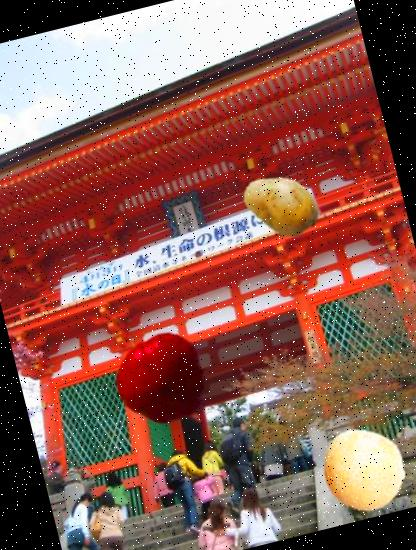Cantaloupe: (314, 420, 415, 521)
Potato: (234, 156, 330, 252)
Tomato: (104, 323, 217, 435)
